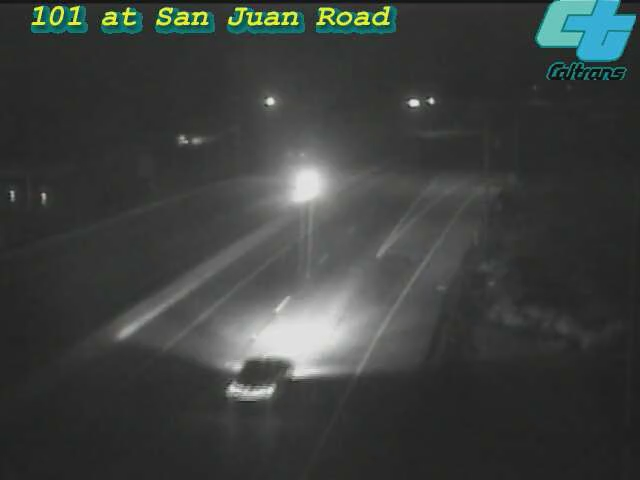vehicle: (205, 320, 315, 430), (266, 139, 346, 219)
